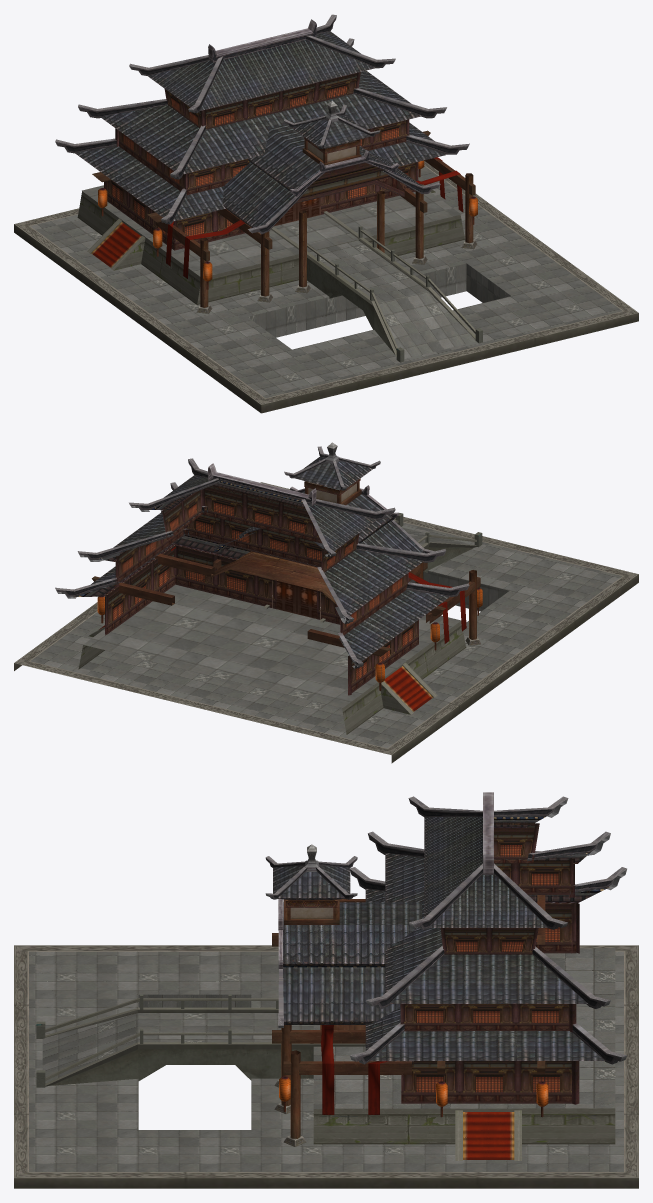
File: s7_3d_newzc_qiaojianzhu01.FBX
The picture shows the model from 3 angles, top to bottom: view 1: azimuth 30°, elevation 25°; view 2: azimuth 150°, elevation 25°; view 3: azimuth 270°, elevation 25°; orthographic projection. The views are drawn at different scales.
Visible parts, largest first — view 1: s7_3d_newzc_qiaojianzhu01; view 2: s7_3d_newzc_qiaojianzhu01; view 3: s7_3d_newzc_qiaojianzhu01.
Part boxes in pixels (box(x1,y1,x2,y2)): s7_3d_newzc_qiaojianzhu01: box(14, 14, 638, 413); s7_3d_newzc_qiaojianzhu01: box(14, 442, 638, 763); s7_3d_newzc_qiaojianzhu01: box(14, 792, 638, 1188).
Size of the model in its own units: 34.34 by 18.8 by 38.94.
